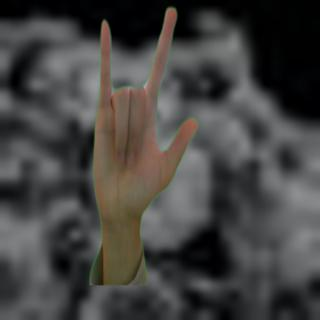ILY: (87, 4, 200, 232)
